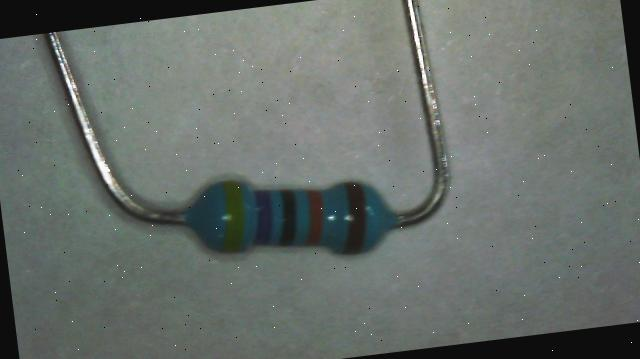black: (273, 188, 301, 246)
brown: (336, 180, 372, 254)
orange: (300, 189, 327, 245)
resistor: (174, 134, 405, 290)
violet: (249, 188, 276, 245)
yellow: (212, 179, 250, 252)
